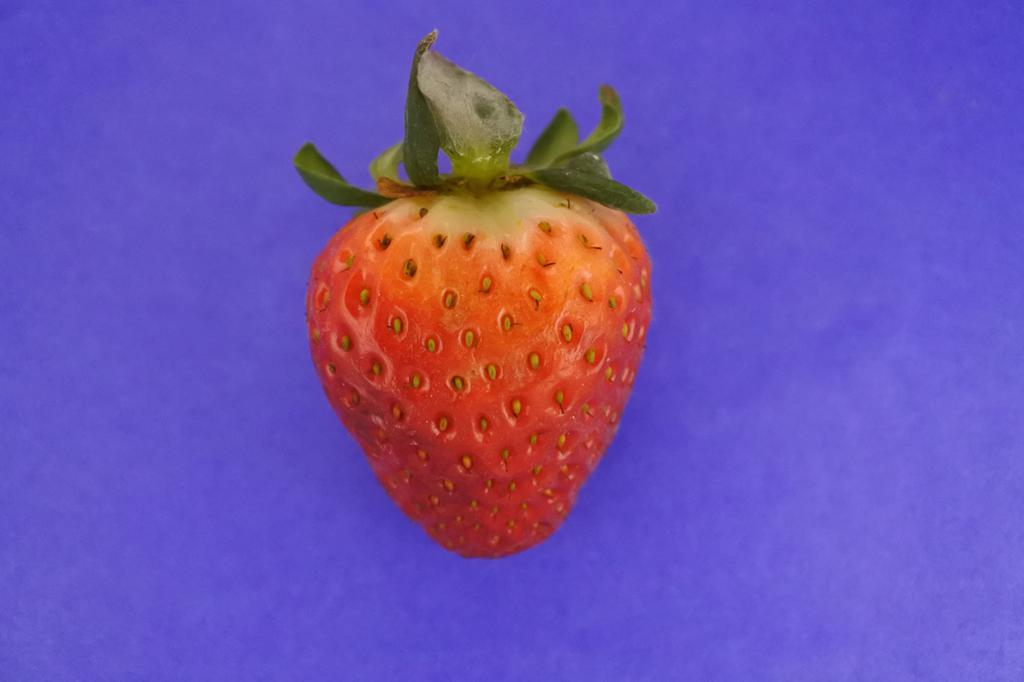red strawberry: (293, 29, 656, 563)
